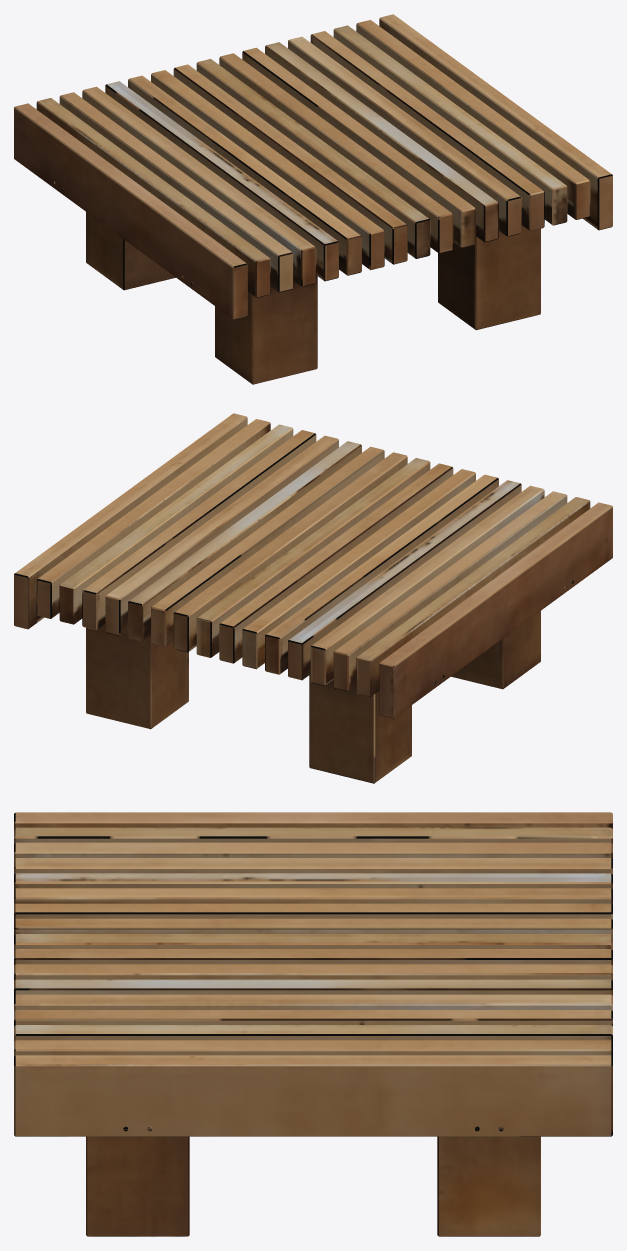
The picture shows the model from 3 angles, top to bottom: view 1: azimuth 30°, elevation 25°; view 2: azimuth 150°, elevation 25°; view 3: azimuth 270°, elevation 25°; orthographic projection. The views are drawn at different scales.
Parts seen in each view (by area): view 1: Node; view 2: Node; view 3: Node.
Boxes of the visible parts, x1=… form: Node: x1=14, y1=14, x2=612, y2=384; Node: x1=14, y1=413, x2=612, y2=783; Node: x1=14, y1=812, x2=612, y2=1236.
Size of the model in its own units: 0.7 by 0.2603 by 0.6972.
Materials: 1 (1 with a texture image).
